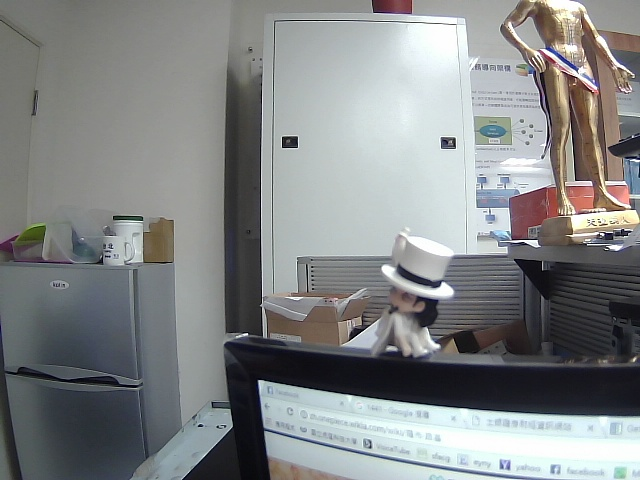lucci: (355, 222, 462, 372)
